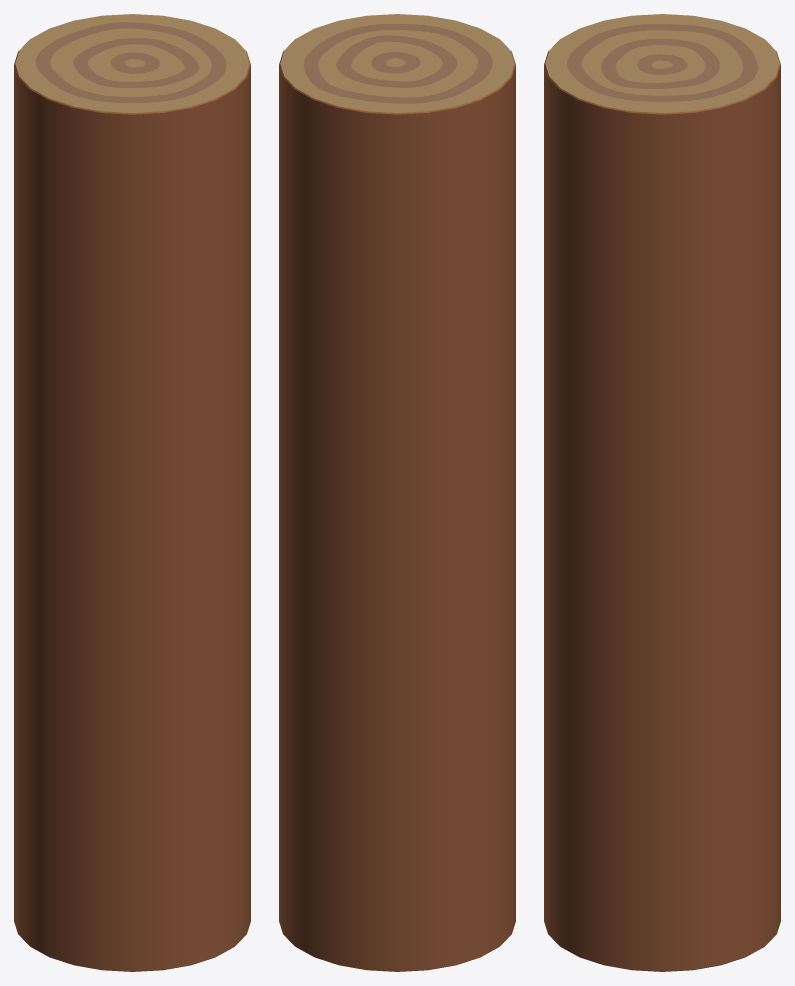
File: SM_WoodLog.fbx
3 views of the same model, side by side, from view 1: azimuth 30°, elevation 25°; view 2: azimuth 150°, elevation 25°; view 3: azimuth 270°, elevation 25° (orthographic).
Visible parts, largest first — view 1: WoodLog; view 2: WoodLog; view 3: WoodLog.
Boxes of the visible parts, bbox=[...] form: WoodLog: bbox=[14, 14, 250, 971]; WoodLog: bbox=[279, 14, 515, 971]; WoodLog: bbox=[544, 14, 780, 971].
Size of what is drawn, in the model's own units: 200 by 800 by 200.
1 material, 1 textured.
